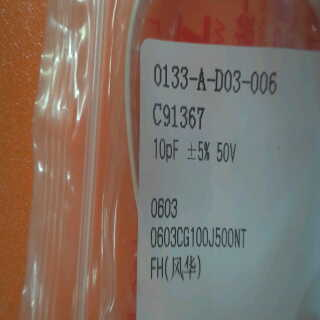10pF: (152, 135, 180, 164)
